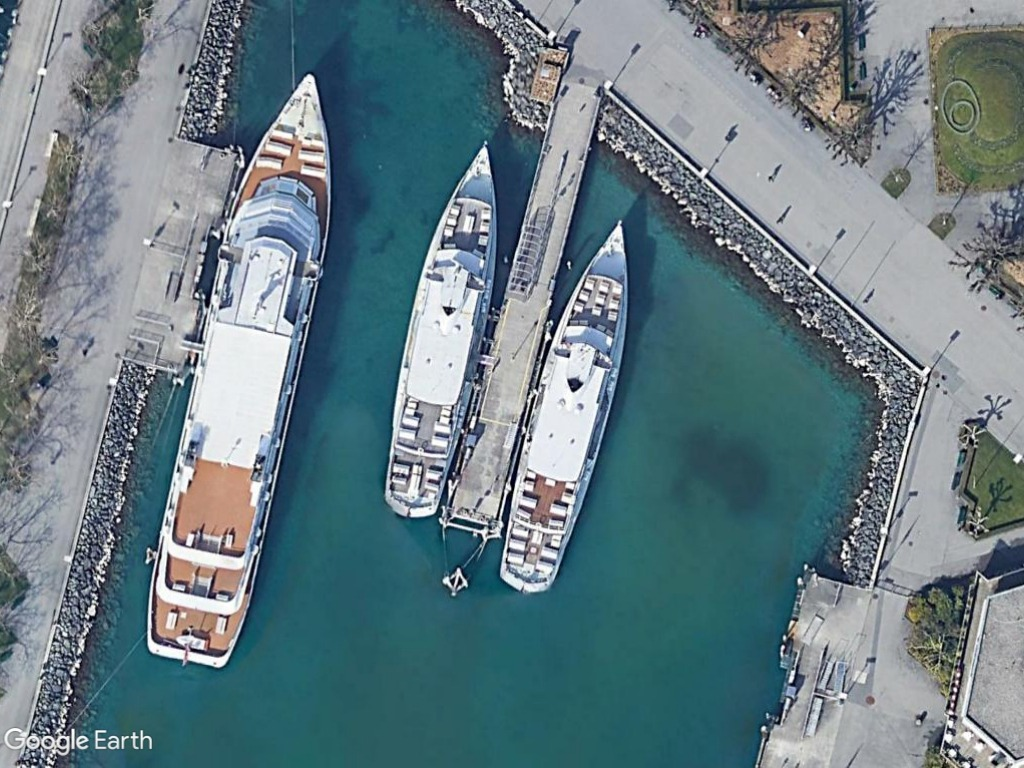boat: (140, 69, 334, 673), (496, 212, 630, 598), (378, 137, 502, 522)
